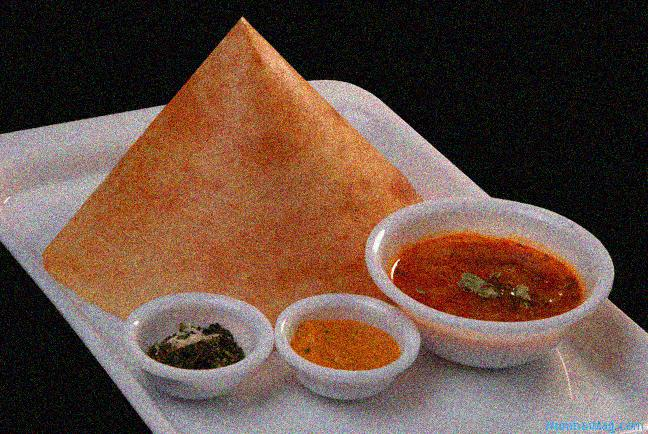dosa: (45, 11, 430, 304)
